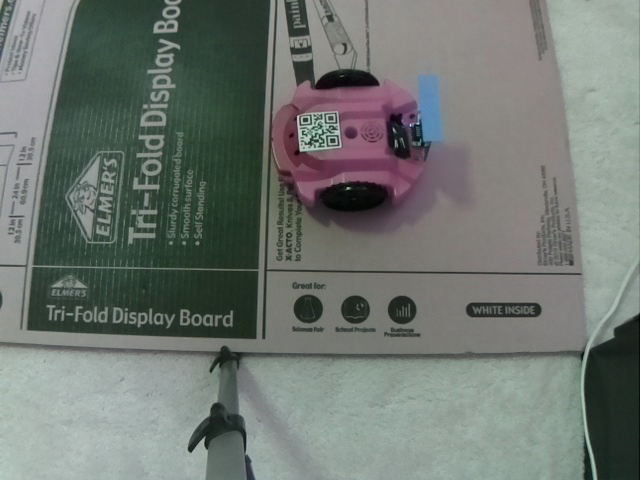board: (389, 74, 444, 151)
chassis: (262, 63, 448, 223)
